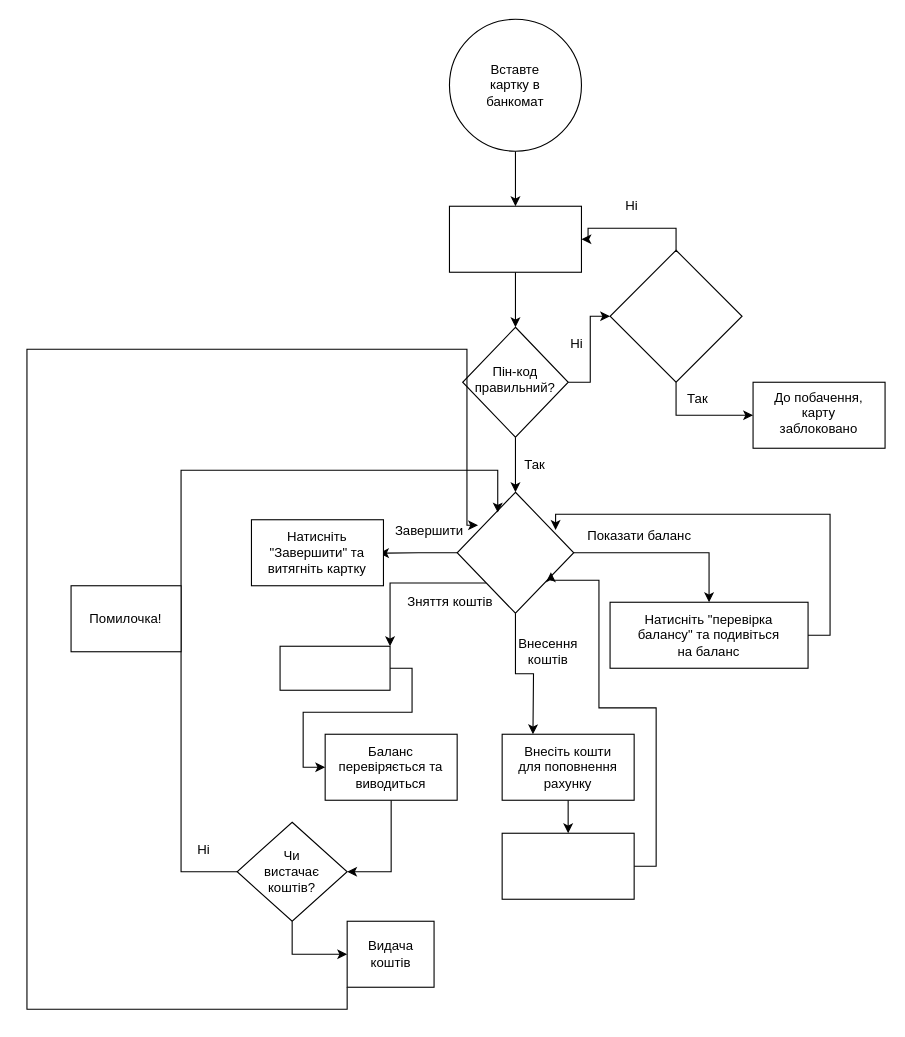
This 905x1037 diagram has some shape labels left out. The shapes that lost their labels are listed below. From the top down, each one's centre as x and y in pixels, then its label:
the point at 514,238: Введіть PIN
the point at 675,315: Це була 3 спроба?
the point at 515,552: Виберіть операцію
the point at 334,667: Введіть суму
the point at 567,865: Підтвердження поповнення
